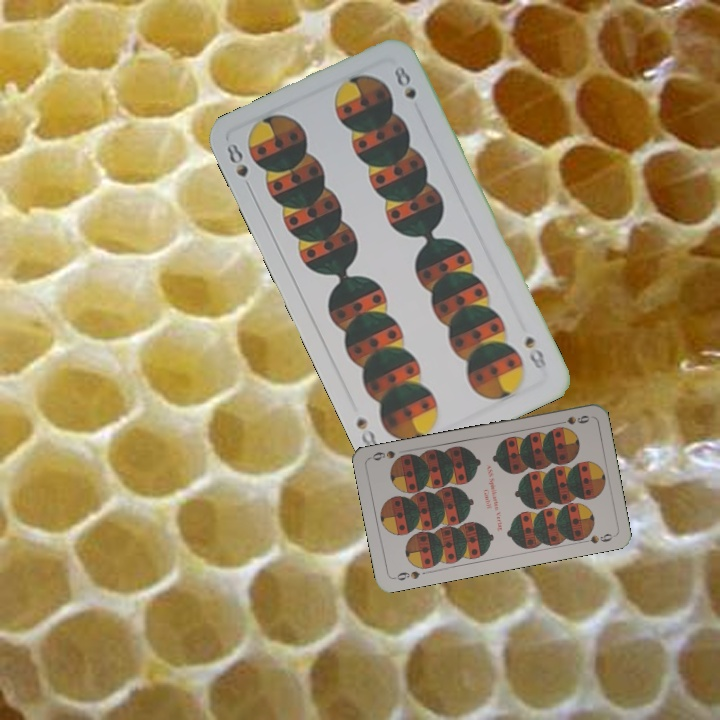S8: (222, 139, 256, 195), (520, 331, 549, 372)
S9: (552, 411, 592, 432), (390, 567, 422, 583)
